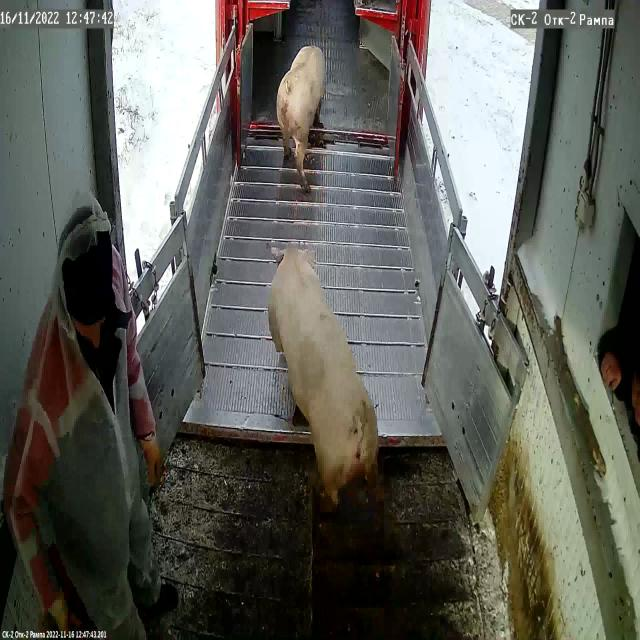pig: (268, 246, 377, 491), (276, 47, 324, 193)
